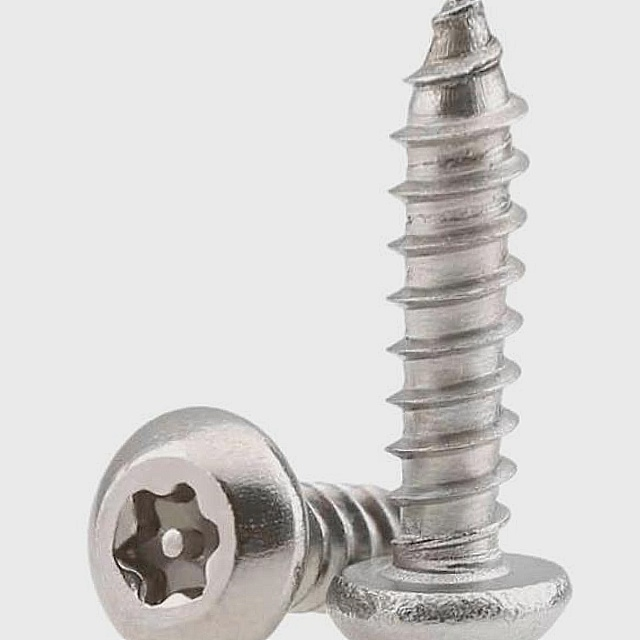torx: (75, 402, 313, 640)
